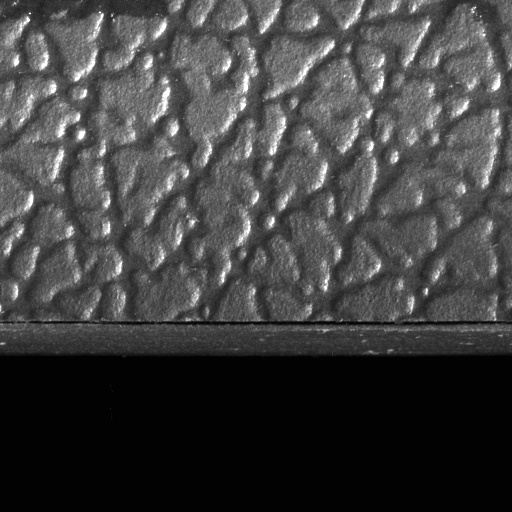jiaofeng: (28, 316, 511, 337)
